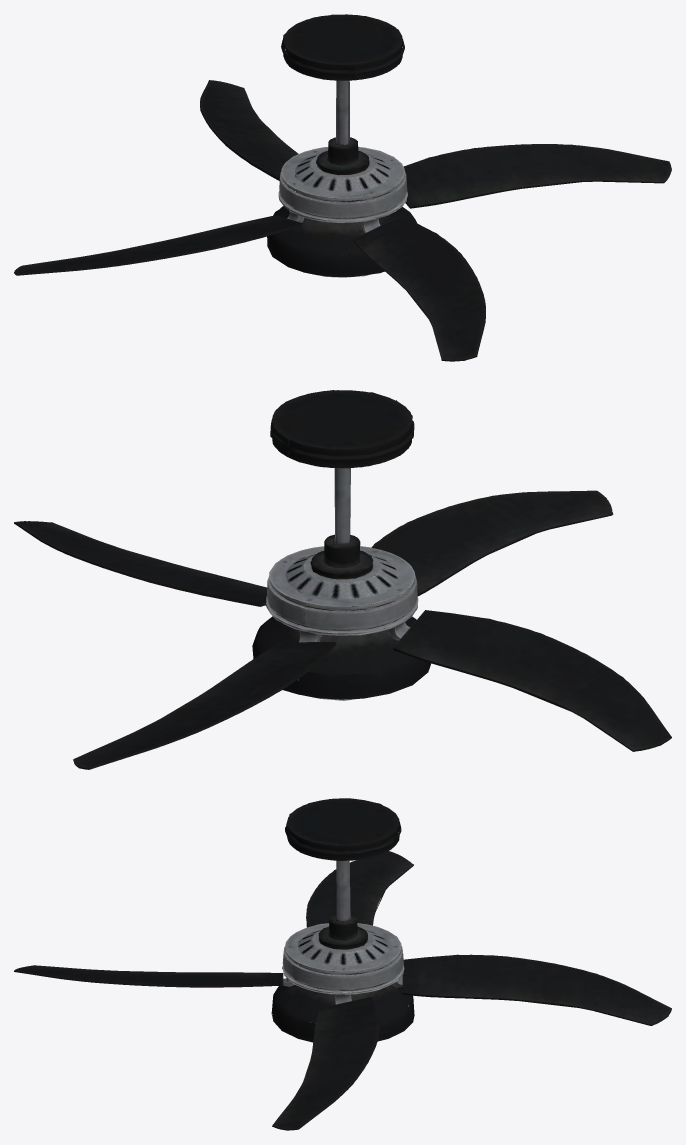
The model's file is ceiling_fan.glb.
3 renders of one model, top to bottom at view 1: azimuth 30°, elevation 25°; view 2: azimuth 150°, elevation 25°; view 3: azimuth 270°, elevation 25°, orthographic. The views are drawn at different scales.
Visible parts, largest first — view 1: ceiling_fan_blades, ceiling_fan; view 2: ceiling_fan_blades, ceiling_fan; view 3: ceiling_fan_blades, ceiling_fan.
Boxes of the visible parts, box(x1,y1,x2,y2) form: ceiling_fan_blades: box(14, 80, 671, 361); ceiling_fan: box(267, 14, 416, 277); ceiling_fan_blades: box(14, 490, 671, 769); ceiling_fan: box(252, 390, 431, 700); ceiling_fan_blades: box(14, 851, 671, 1130); ceiling_fan: box(271, 798, 414, 1042).
Size of the model in its own units: 1.46 by 0.5164 by 1.46.
Materials: 1 (1 with a texture image).
